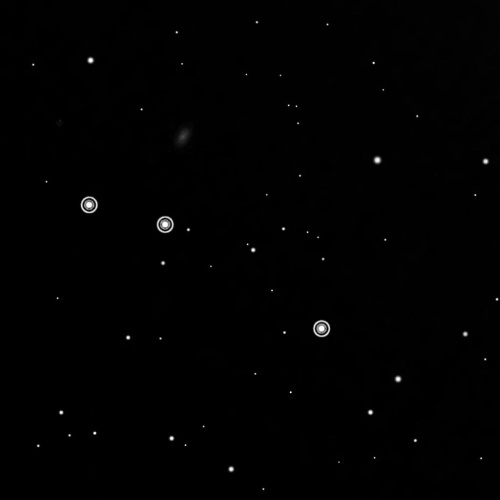vulpecula: (76, 191, 334, 340)
